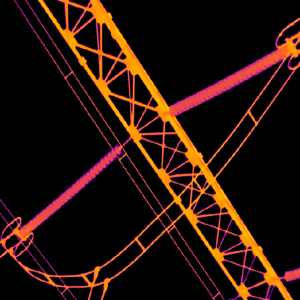insulator: (18, 145, 122, 238), (169, 43, 290, 117)
